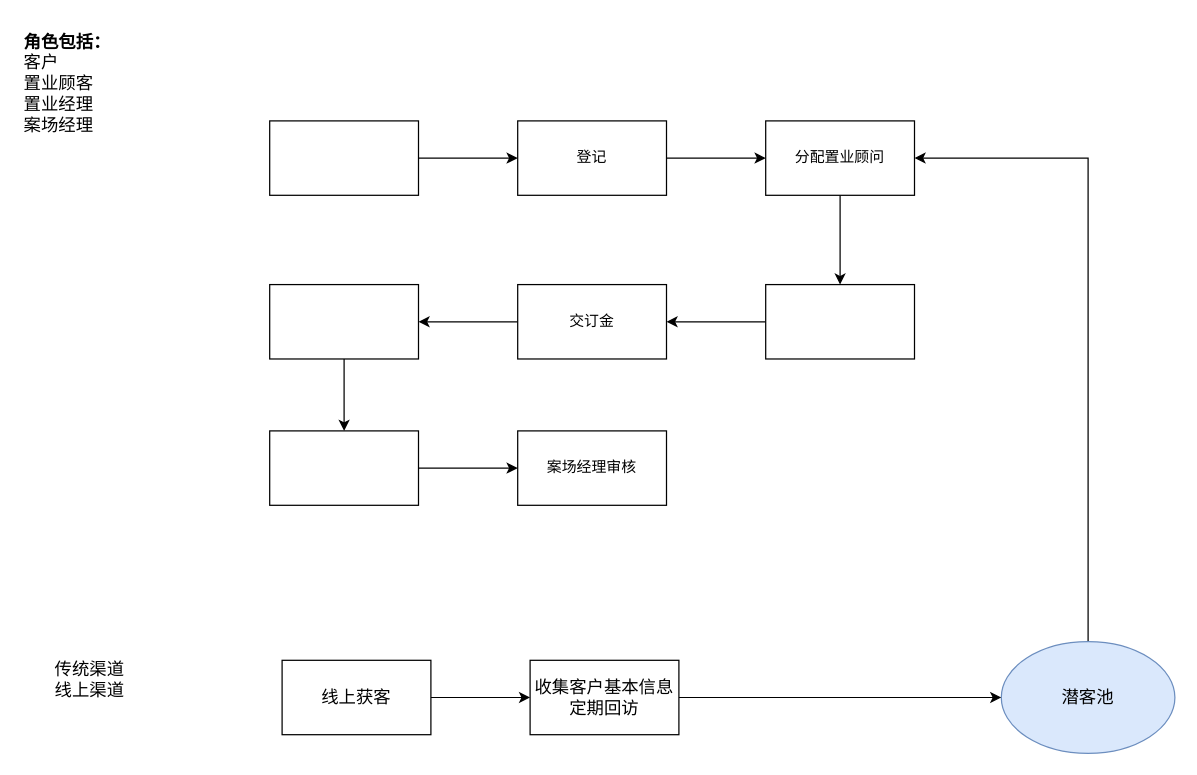
Some shapes in this 1197 by 775 pixel diagram are drawn without their labels. The box of each missing label's shape, as (x1, y1, x2, y2) in pixels:
下单: (268, 283, 418, 359)
客户到访: (268, 120, 418, 195)
置业经理审核: (268, 430, 418, 505)
跟进: (764, 283, 914, 359)
